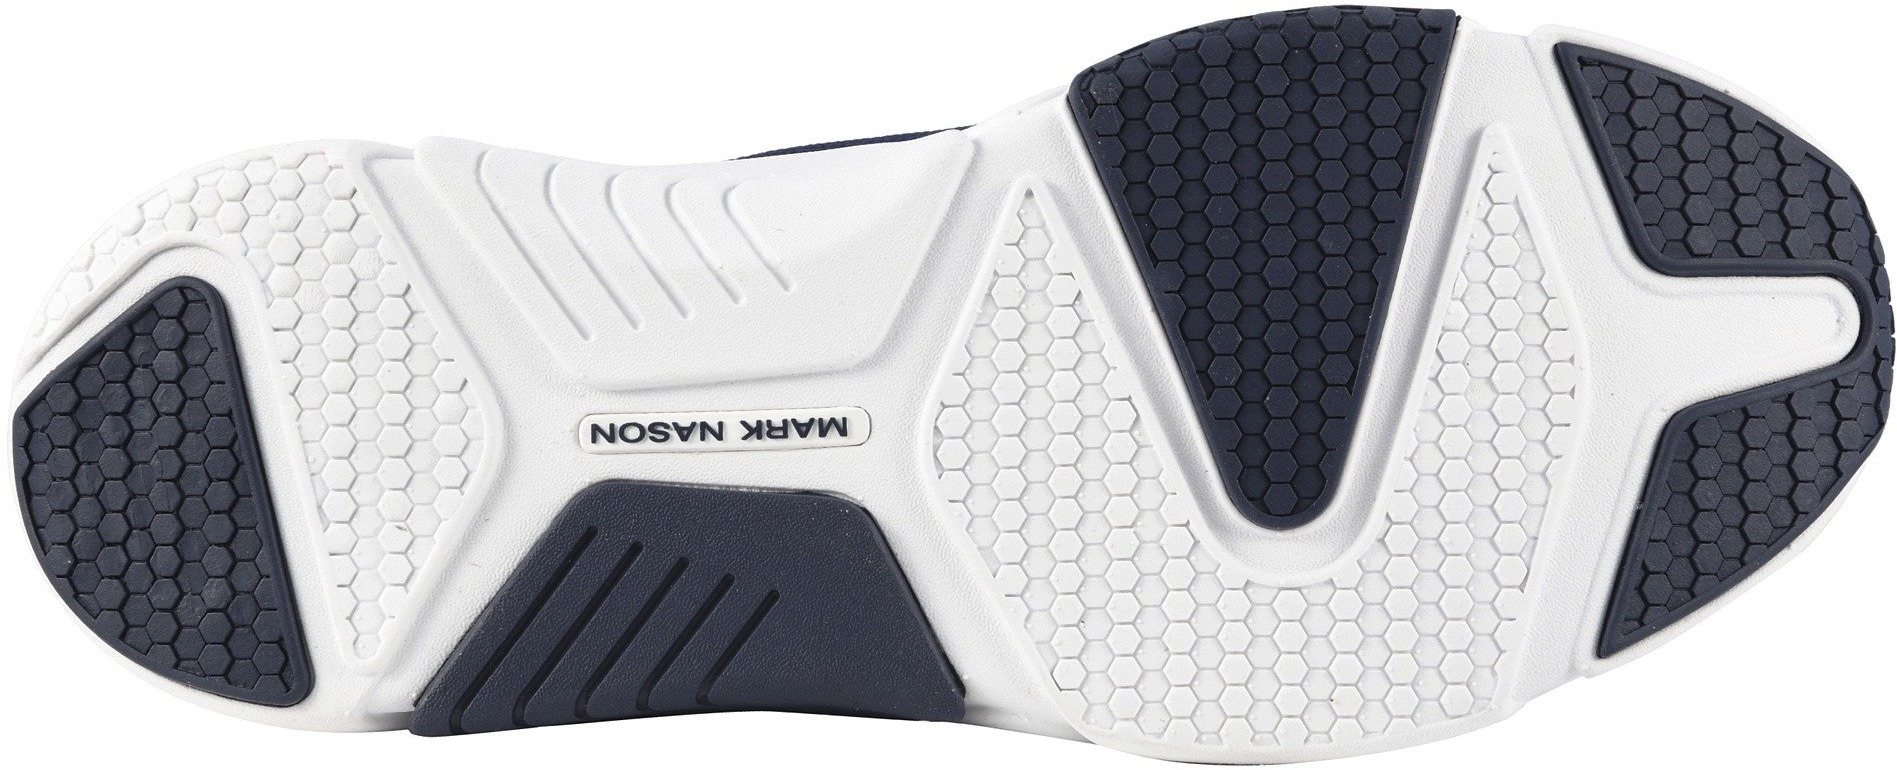exclude: (324, 0, 1076, 264)
line: (641, 547, 788, 679)
polygon: (1142, 52, 1389, 278), (970, 360, 1153, 559), (1078, 567, 1262, 735), (58, 374, 230, 540), (1325, 570, 1484, 722), (309, 374, 460, 518), (1634, 103, 1778, 241), (1432, 341, 1566, 484), (265, 234, 404, 361)
text: (596, 396, 665, 467), (744, 398, 813, 464), (673, 402, 731, 462)
